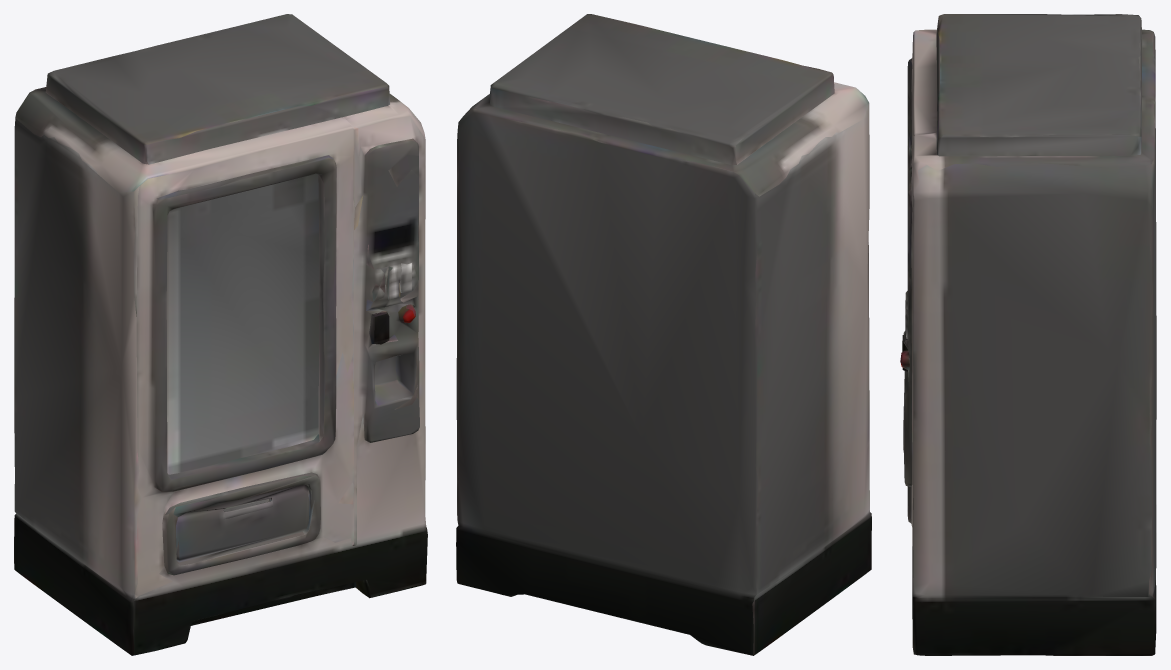
The model's file is vending_machine.glb.
3 views of the same model, side by side, from view 1: azimuth 30°, elevation 25°; view 2: azimuth 150°, elevation 25°; view 3: azimuth 270°, elevation 25° (orthographic). The views are drawn at different scales.
Parts seen in each view (by area): view 1: geometry_0; view 2: geometry_0; view 3: geometry_0.
Boxes of the visible parts, box(x1,y1,x2,y2) form: geometry_0: box(14, 14, 427, 655); geometry_0: box(456, 14, 871, 655); geometry_0: box(900, 14, 1156, 655).
Bounding box in the file's own units: 0.6392 × 1 × 0.4582.
Materials: 1 (1 with a texture image).
